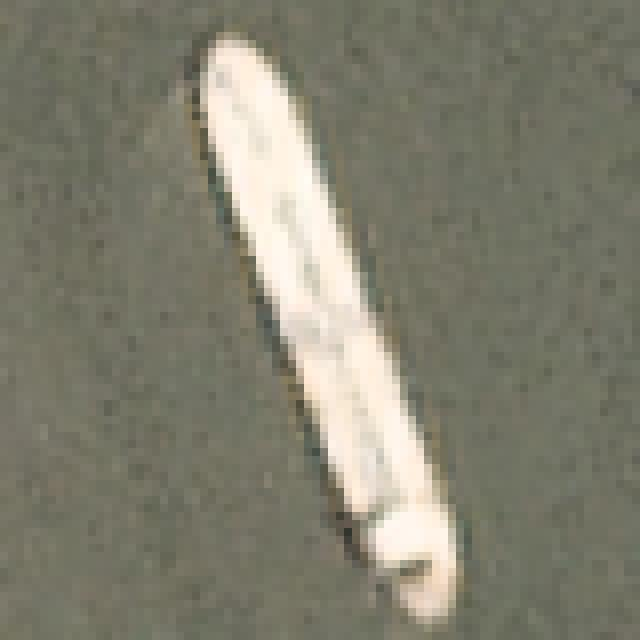ship: (156, 20, 517, 633)
